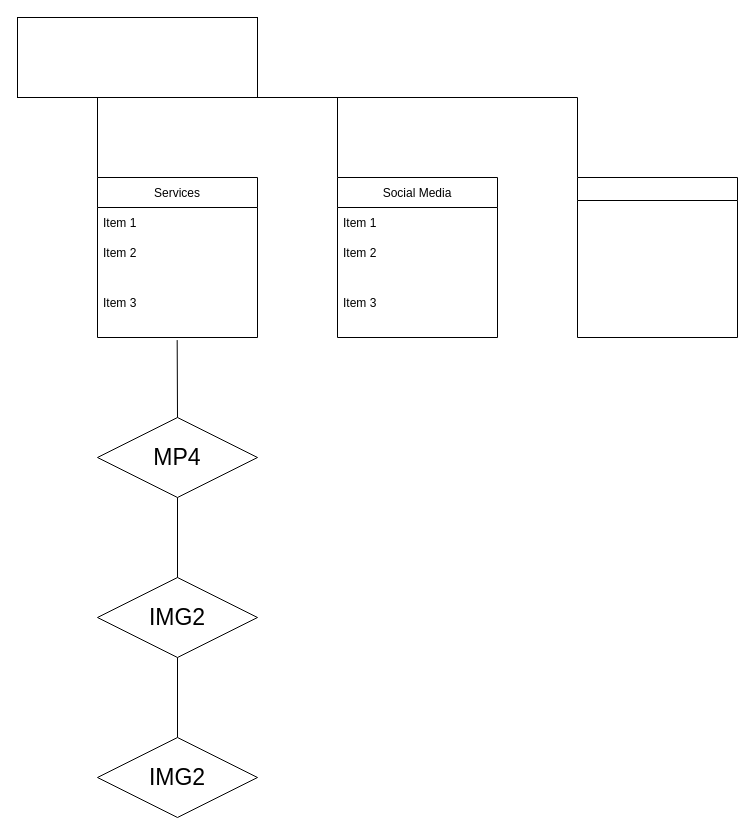
Image size: 755x835. Some labels were removed from this diagram. The centre of each missing label's shape, as x and y in pixels:
"Home" goes at point (137, 57).
"Web3" goes at point (657, 257).
